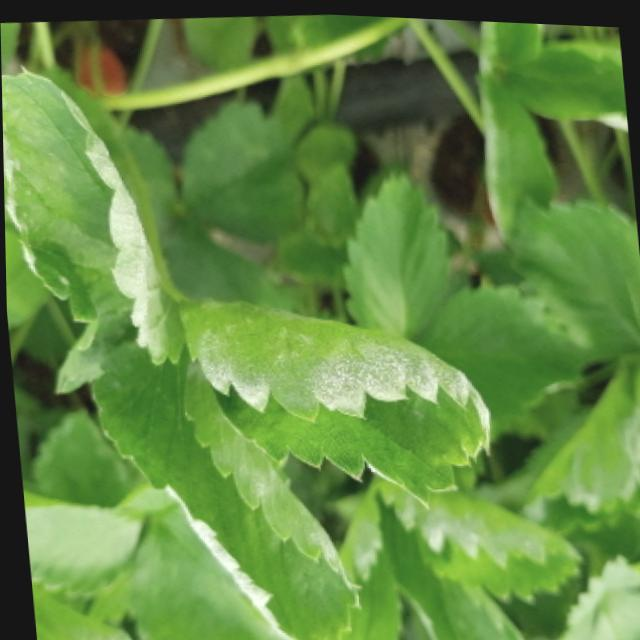Powdery Mildew Leaf: (86, 337, 363, 640), (178, 291, 490, 507), (1, 65, 186, 394)
